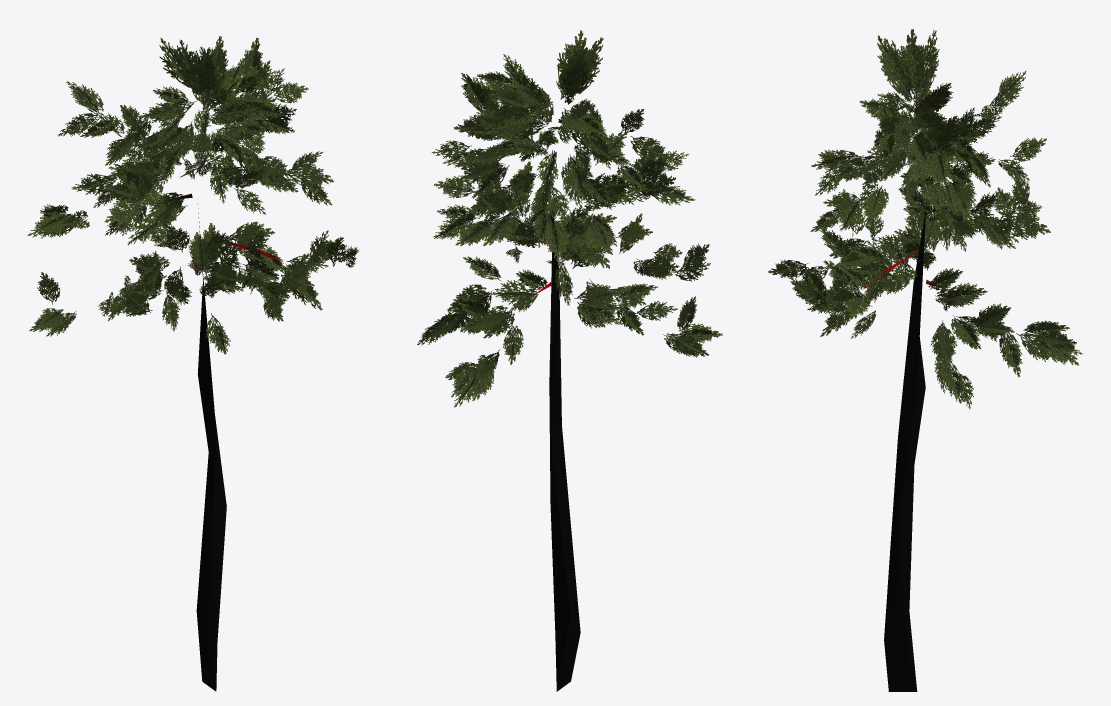
Rendered from pine1 lod3.FBX.
3 renders of one model, left to right at view 1: azimuth 30°, elevation 25°; view 2: azimuth 150°, elevation 25°; view 3: azimuth 270°, elevation 25°, orthographic.
Parts seen in each view (by area): view 1: pine002_LOD3; view 2: pine002_LOD3; view 3: pine002_LOD3.
Boxes of the visible parts, x1=… form: pine002_LOD3: x1=27, y1=36, x2=359, y2=691; pine002_LOD3: x1=417, y1=30, x2=722, y2=691; pine002_LOD3: x1=768, y1=29, x2=1082, y2=691.
Bounding box in the file's own units: 123763 × 259174 × 119641.
